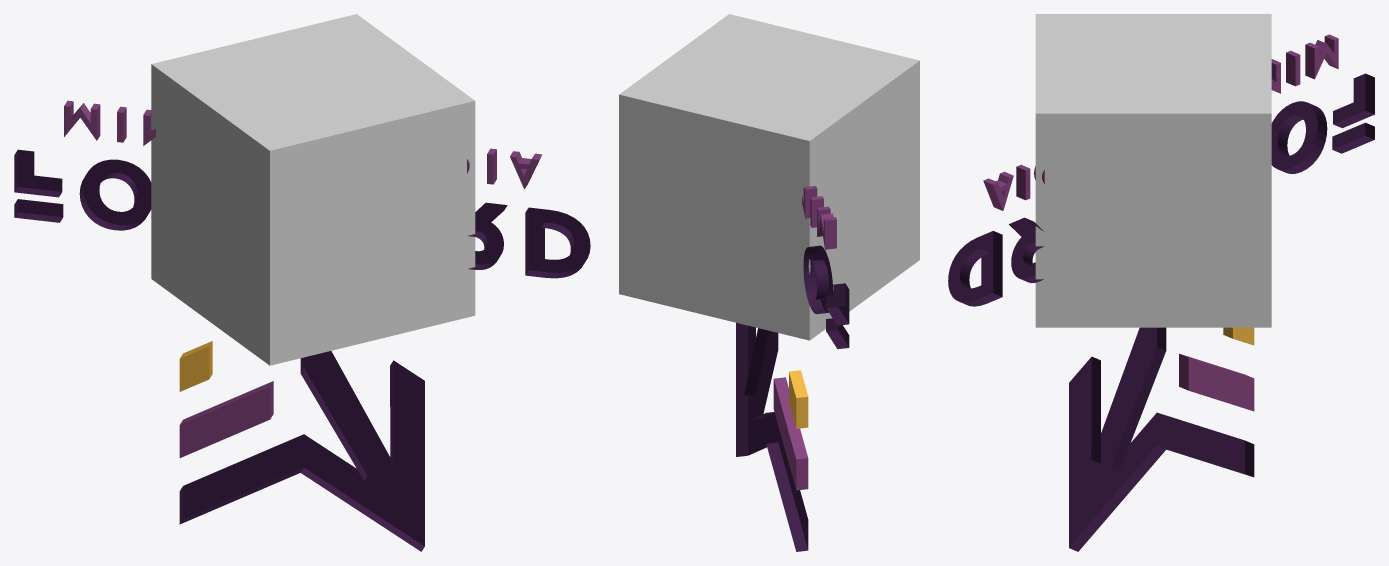
File: forwardimindedmedia.glb
3 views of the same model, side by side, from view 1: azimuth 30°, elevation 25°; view 2: azimuth 150°, elevation 25°; view 3: azimuth 270°, elevation 25° (orthographic). The views are drawn at different scales.
Parts seen in each view (by area): view 1: Cube, Mesh_0; view 2: Cube, Mesh_0; view 3: Cube, Mesh_0.
Boxes of the visible parts, left/top/right/bottom form: Cube: left=151, top=14, right=475, bottom=365; Mesh_0: left=14, top=100, right=590, bottom=551; Cube: left=619, top=14, right=919, bottom=340; Mesh_0: left=736, top=186, right=849, bottom=551; Cube: left=1035, top=14, right=1271, bottom=327; Mesh_0: left=948, top=34, right=1374, bottom=551.
Size of the model in its own units: 3.62 by 4.23 by 3.62.
